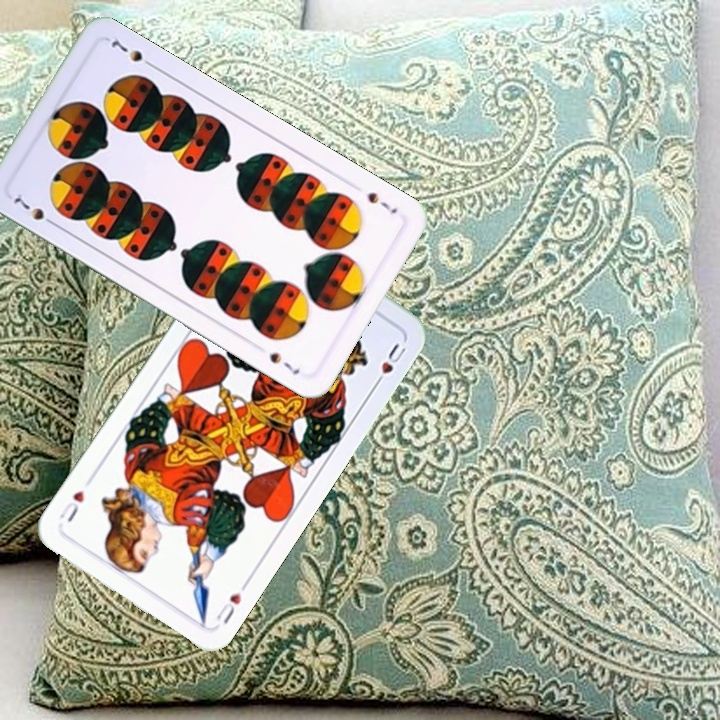HU: (212, 589, 244, 627)
S7: (10, 193, 60, 230), (363, 188, 400, 217)
